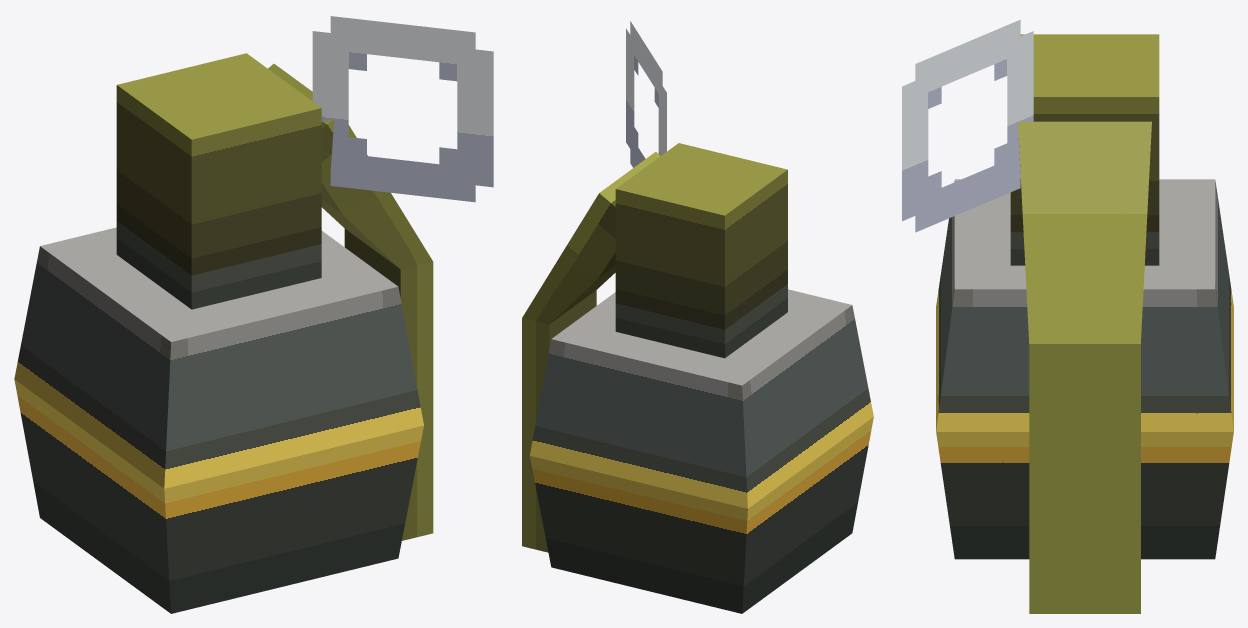
Rendered from he-grenade.gltf.
3 renders of one model, left to right at view 1: azimuth 30°, elevation 25°; view 2: azimuth 150°, elevation 25°; view 3: azimuth 270°, elevation 25°, orthographic. The views are drawn at different scales.
Parts seen in each view (by area): view 1: cube (×5); view 2: cube (×5); view 3: cube (×5).
Boxes of the visible parts, left/top/right/bottom form: cube (×5): left=14, top=16, right=493, bottom=613; cube (×5): left=522, top=21, right=873, bottom=613; cube (×5): left=902, top=19, right=1233, bottom=613.
Size of the model in its own units: 0.3039 by 0.5027 by 0.2786.
Materials: 1 (1 with a texture image).
